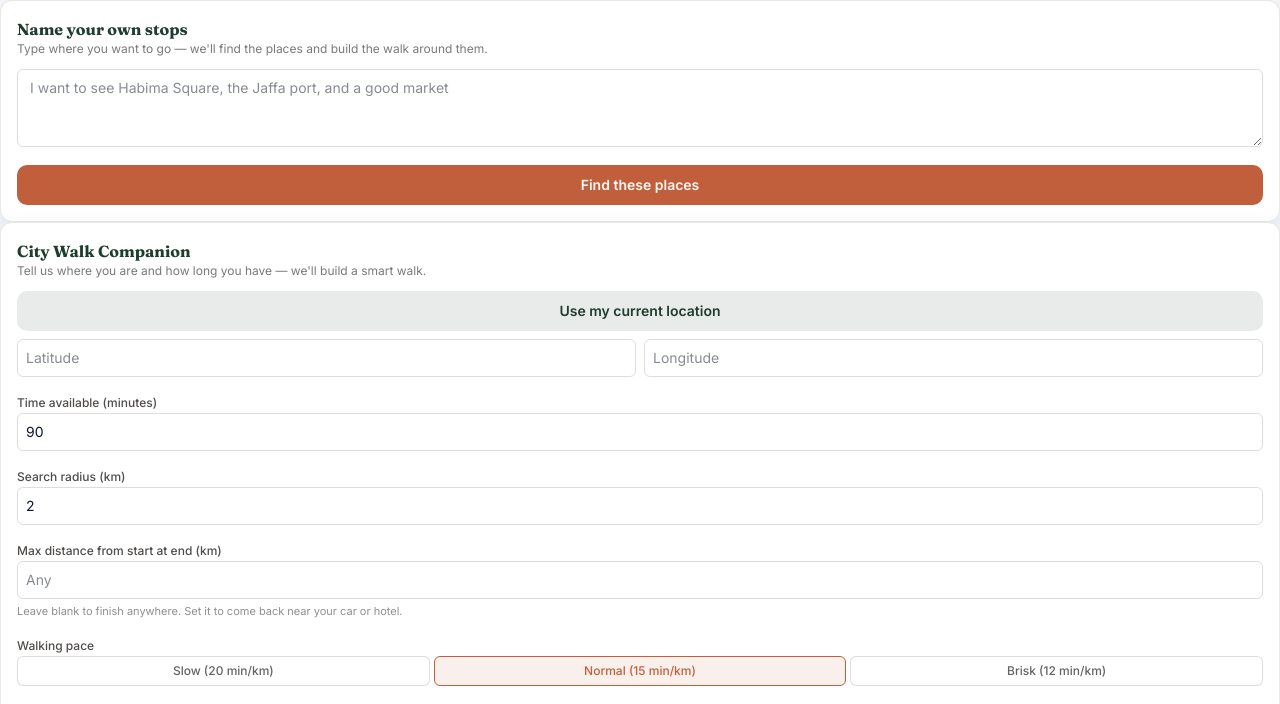
it: a finish distance stated in the prompt › fills it with half a kilometre from a 500m request
This screenshot has width=1280, height=704.
Replace the text in the text box with placeholder "I want to see Habima Square, the Jaffa port, and a good market" with "תחזיר אותי עד חצי ק\"מ ממה שהתחלתי" at (640, 108), box [17,69,1263,147]
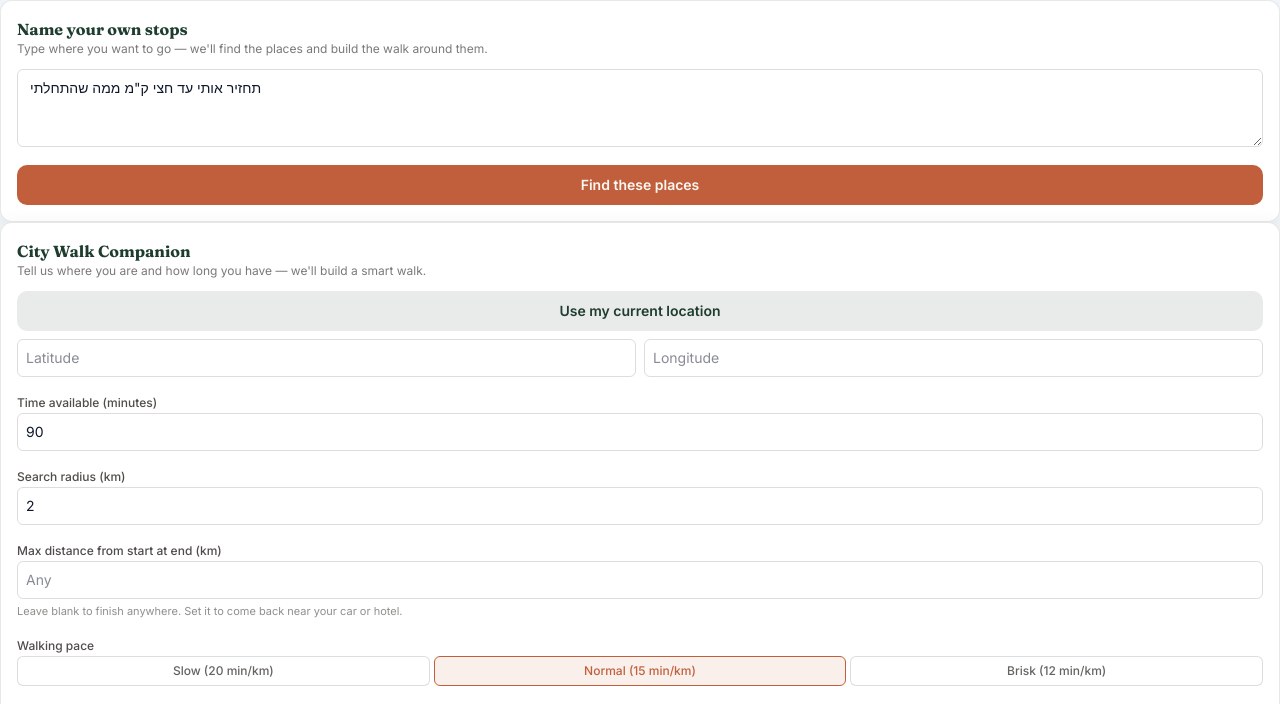
Click the button "Find these places".
click(640, 185)  # box [17,165,1263,205]
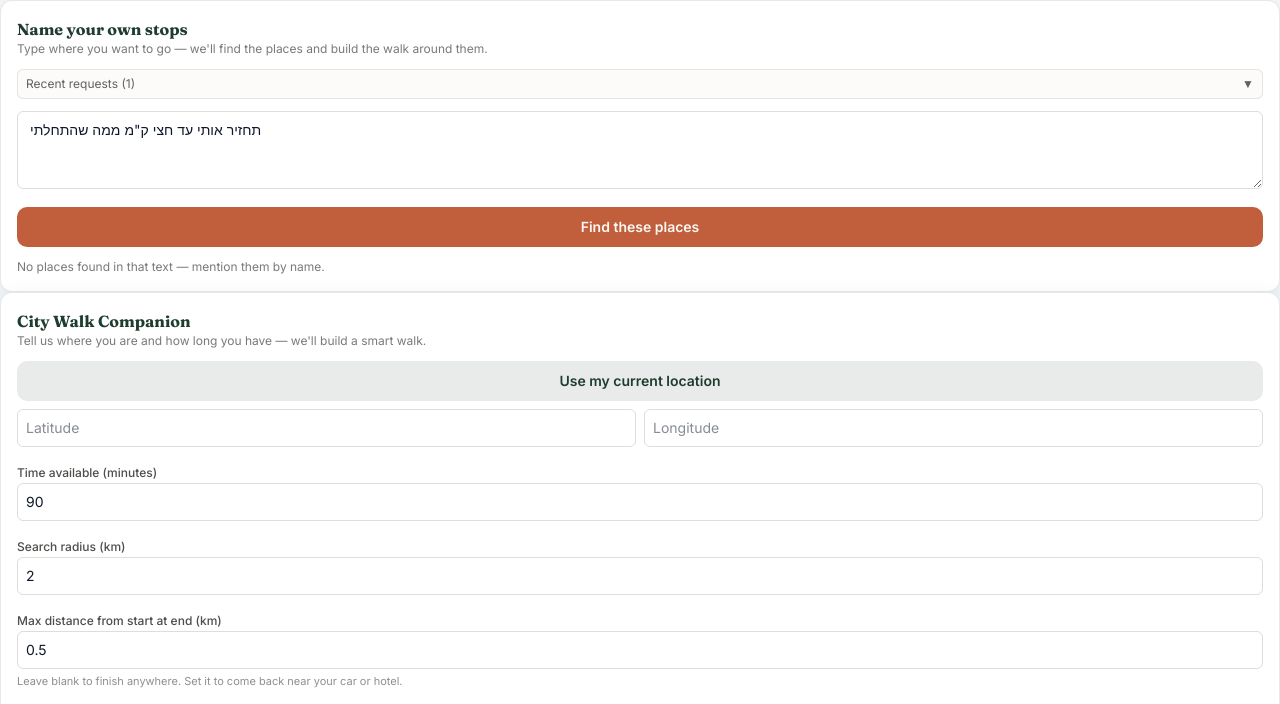
Check: the number field with placeholder "Any" below "Max distance from start at end (km)" holds "0.5", box [17,631,1263,669]
